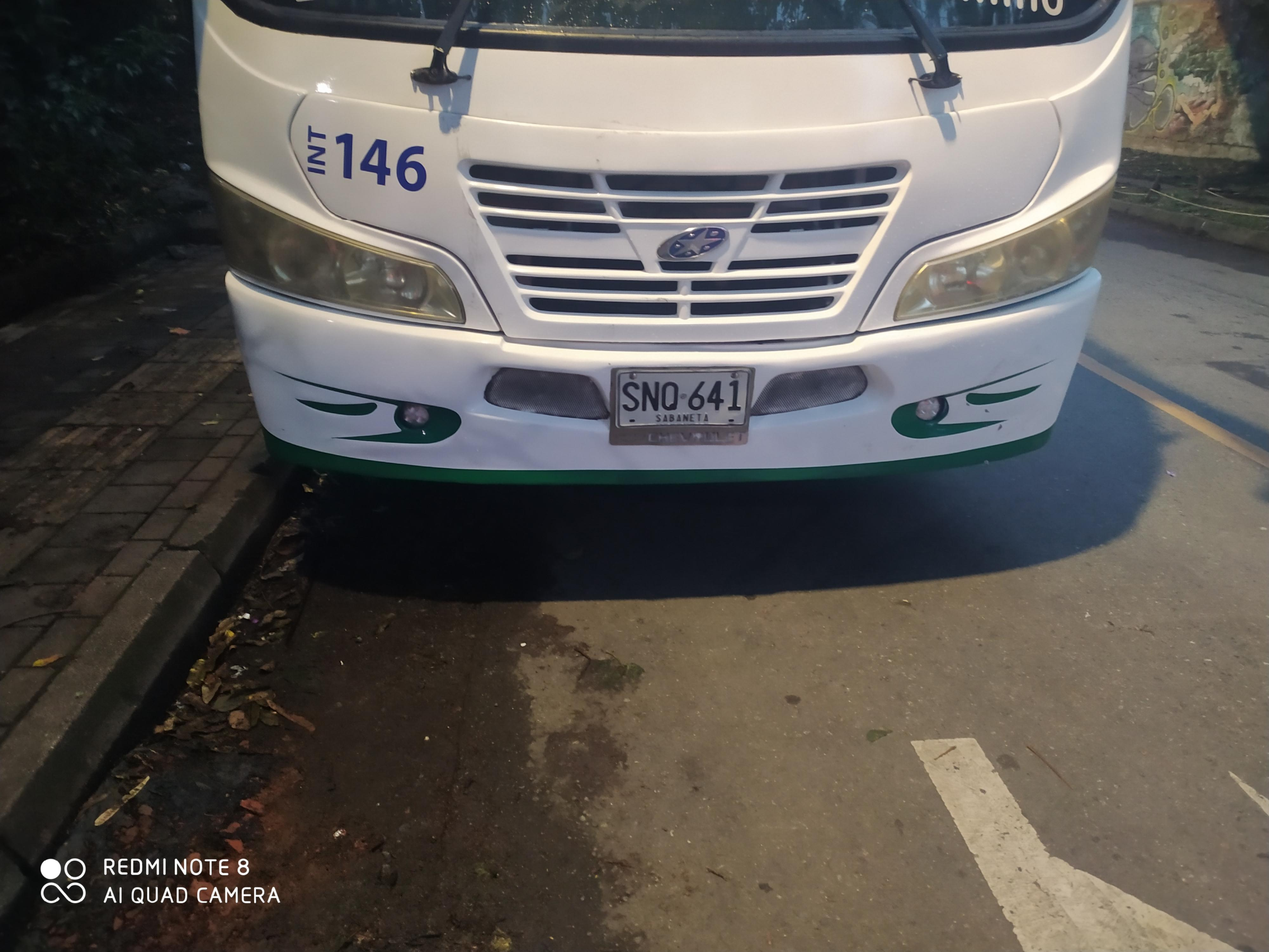placa: (611, 368, 750, 430)
